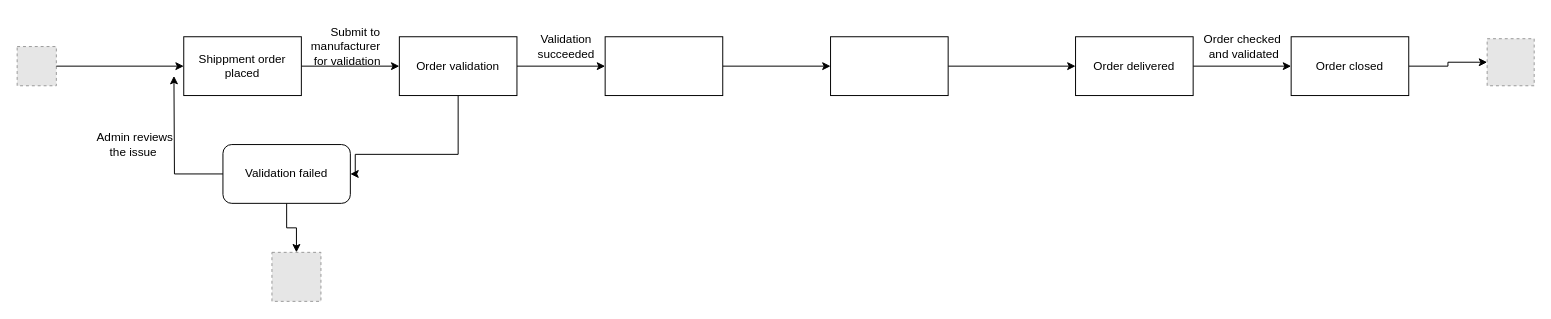
The diagram is 1551 pixels wide and 319 high, and some of its shapes have lost their labels. Grey dashed boxes stand in for pictures. The shapes that lost their labels are listed below. From the top down, each one's centre as x and y in pixels, then its label:
At point (663, 66): "Order preparation".
At point (889, 66): "Shipping".
